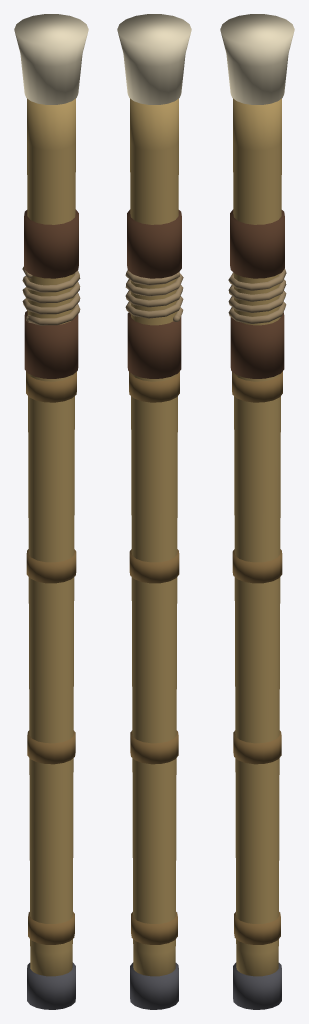
File: Sarbacane_P1.fbx
3 renders of one model, left to right at view 1: azimuth 30°, elevation 25°; view 2: azimuth 150°, elevation 25°; view 3: azimuth 330°, elevation 25°, orthographic.
Visible parts, largest first — view 1: Sarbacane_Bambou, Sarbacane_Cuir, Sarbacane_Os, Sarbacane_Noeuds, Sarbacane_Corde, Sarbacane_Fer; view 2: Sarbacane_Bambou, Sarbacane_Cuir, Sarbacane_Os, Sarbacane_Noeuds, Sarbacane_Corde, Sarbacane_Fer; view 3: Sarbacane_Bambou, Sarbacane_Cuir, Sarbacane_Os, Sarbacane_Noeuds, Sarbacane_Corde, Sarbacane_Fer.
Boxes of the visible parts, x1,y1,x2,y2 form: Sarbacane_Bambou: [27, 98, 75, 976]; Sarbacane_Cuir: [24, 209, 78, 378]; Sarbacane_Os: [14, 14, 88, 104]; Sarbacane_Noeuds: [26, 371, 76, 944]; Sarbacane_Corde: [22, 266, 80, 325]; Sarbacane_Fer: [27, 962, 75, 1009]; Sarbacane_Bambou: [130, 98, 178, 976]; Sarbacane_Cuir: [127, 209, 181, 378]; Sarbacane_Os: [117, 14, 191, 104]; Sarbacane_Noeuds: [129, 371, 179, 944]; Sarbacane_Corde: [125, 270, 183, 321]; Sarbacane_Fer: [130, 962, 178, 1009]; Sarbacane_Bambou: [233, 98, 281, 976]; Sarbacane_Cuir: [230, 209, 284, 378]; Sarbacane_Os: [220, 14, 294, 104]; Sarbacane_Noeuds: [232, 371, 282, 944]; Sarbacane_Corde: [228, 269, 286, 323]; Sarbacane_Fer: [233, 962, 281, 1009].
Bounding box in the file's own units: 0.3309 × 4.82 × 0.336.
